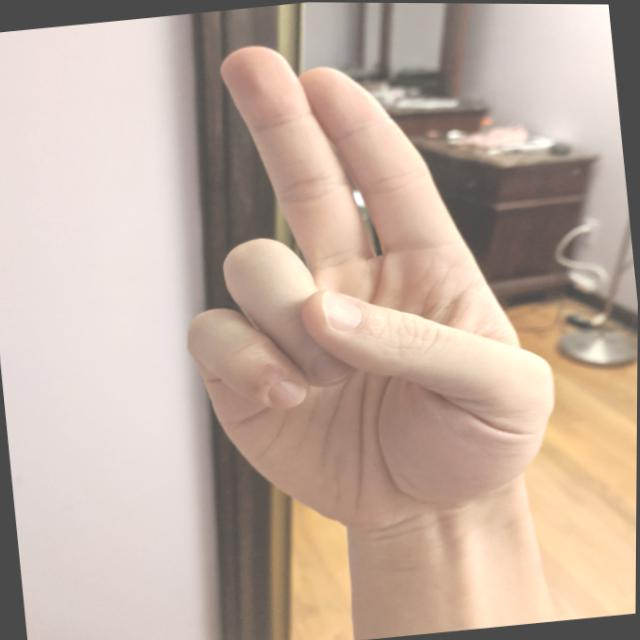U: (145, 11, 577, 554)
